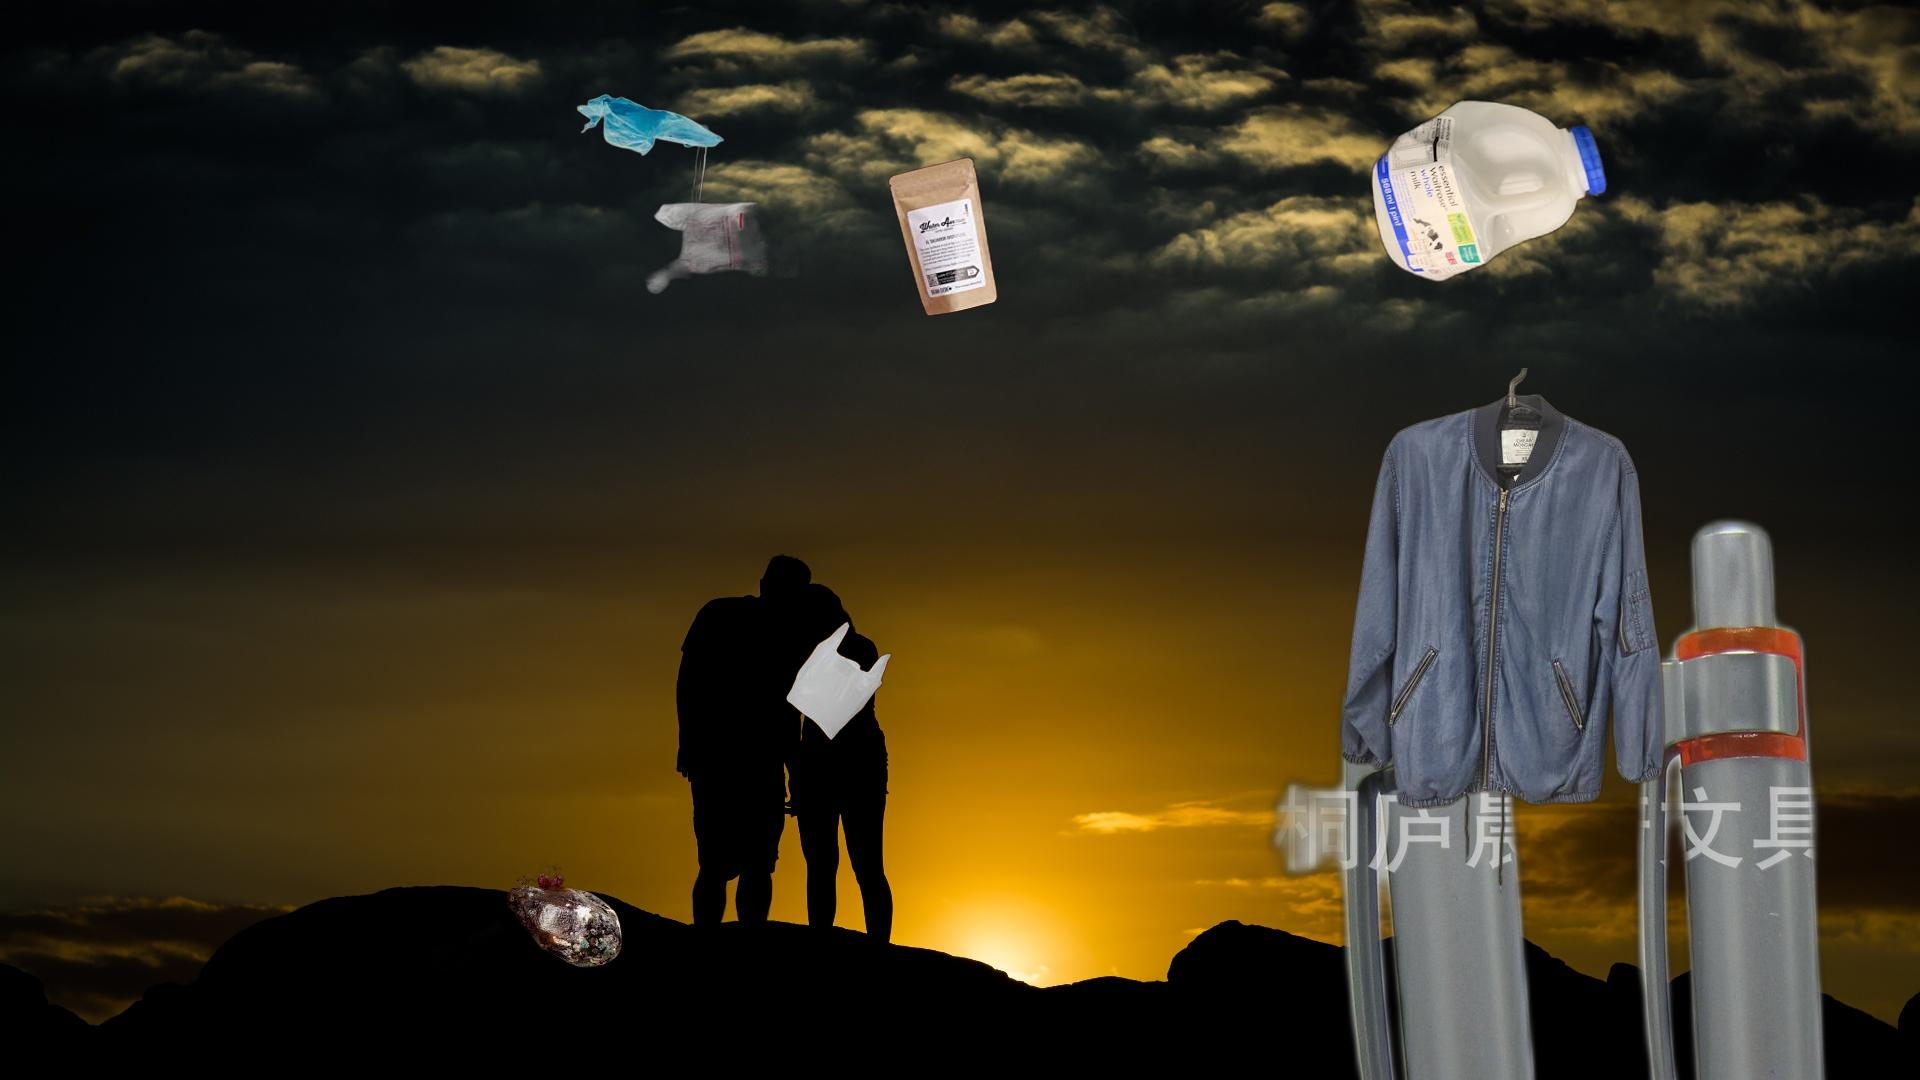biological: (406, 858, 625, 1010)
clothes: (1338, 368, 1668, 895)
penholder: (1258, 484, 1920, 1080)
plastic-bag: (574, 90, 824, 353), (785, 618, 891, 742)
plastic-bottles: (1367, 94, 1611, 287)
trashbox-cardboard: (609, 18, 1051, 319)
